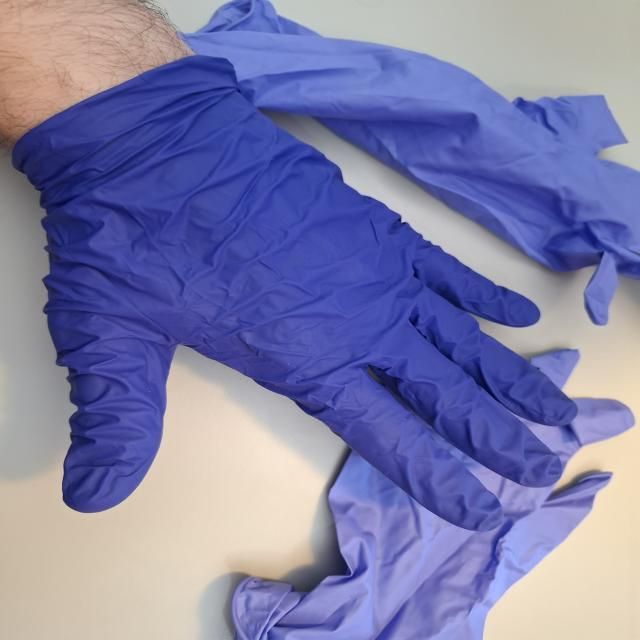glove_on: (13, 54, 582, 536)
